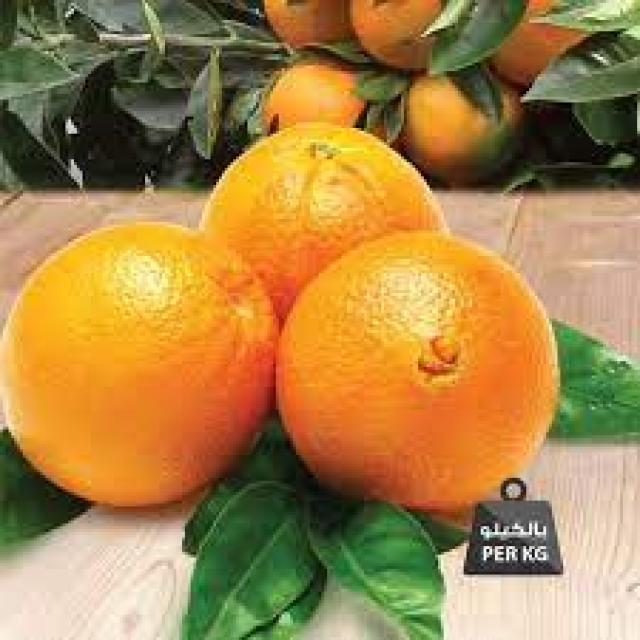Good_Orange: (0, 222, 282, 512), (276, 230, 560, 515), (199, 122, 452, 324)
